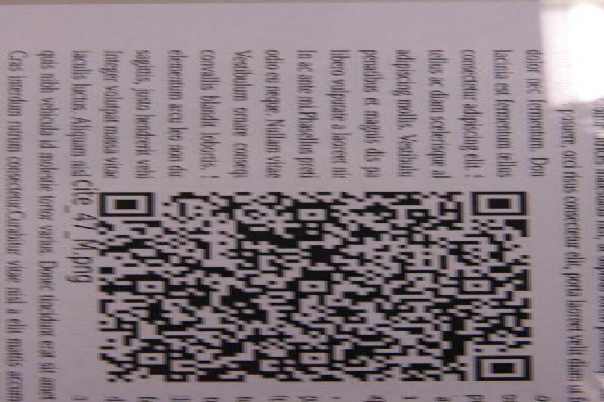code: (98, 190, 532, 383)
